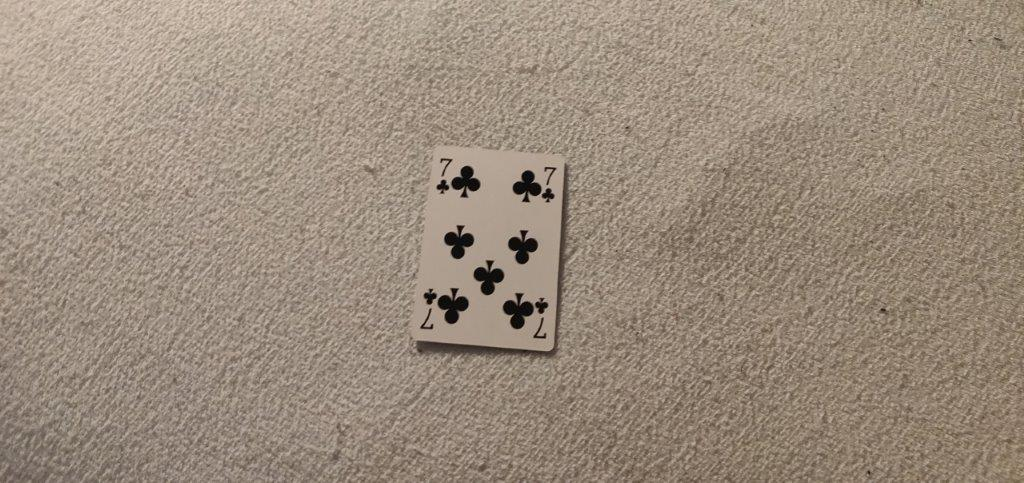7C: (539, 165, 561, 204), (436, 154, 453, 197)
